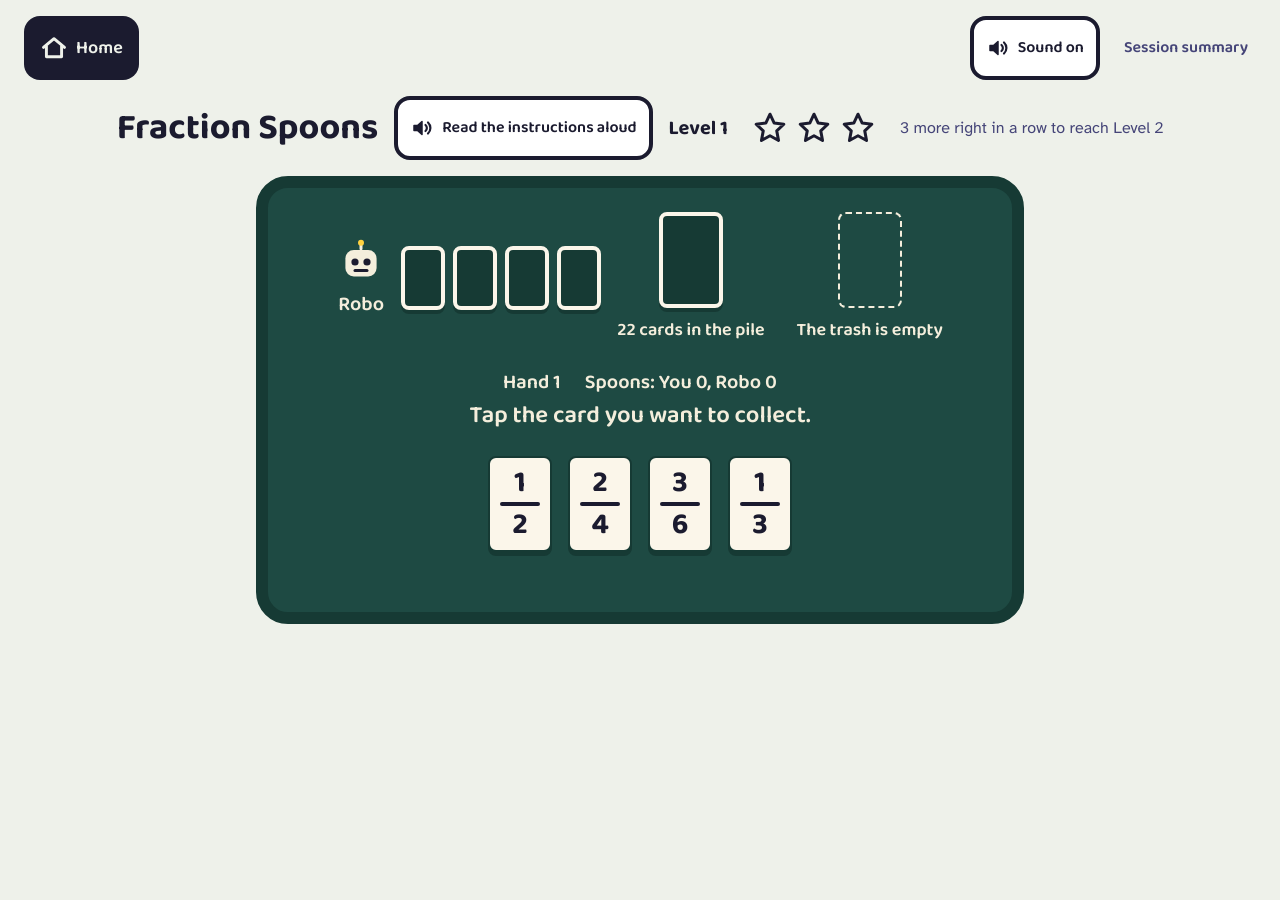
Test: drawing sends the draw and shows the drawn card and the smaller pile
The width and height of the screenshot is (1280, 900).
What coordinates should you click on to do the following:
click the button named "1/2"
I would click on:
 (520, 504)
Its box is [488, 456, 552, 552].
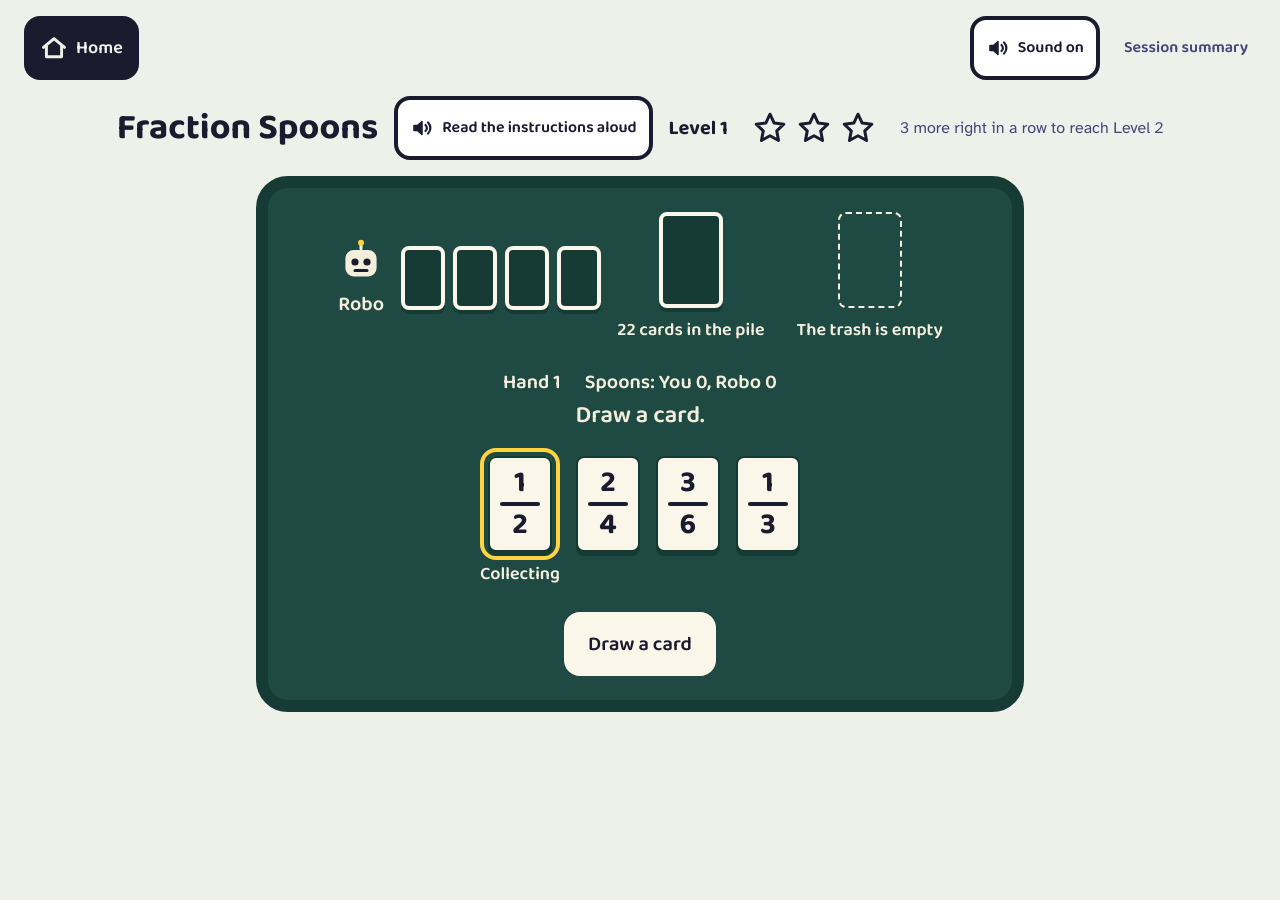
What coordinates should you click on to do the following:
click the button "Draw a card"
I would click on:
 (640, 644)
Its box is [564, 612, 716, 676].
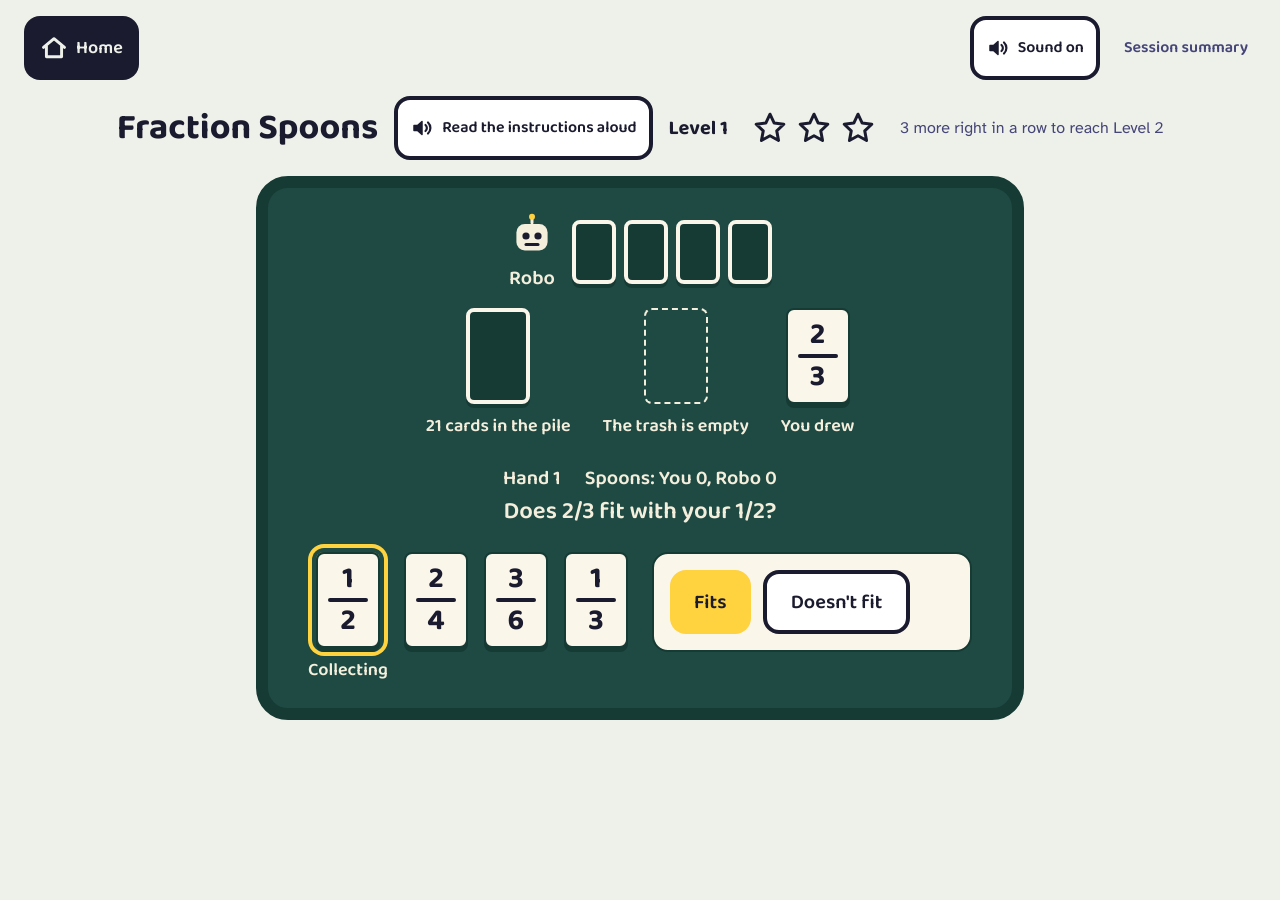
expect the picture named "2/3" is shown: met, box [786, 308, 850, 404]
expect the text "21 cards in the pile" is shown: met, box [426, 412, 570, 440]
expect the text "Draw a card" is gone: met
